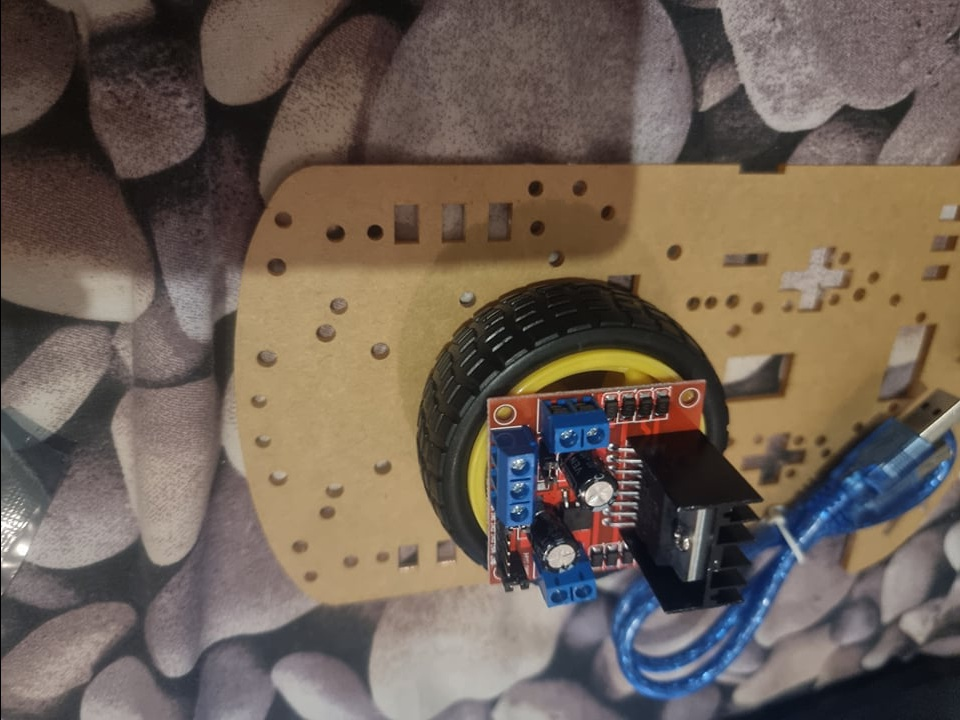MOTOR: (485, 378, 775, 612)
